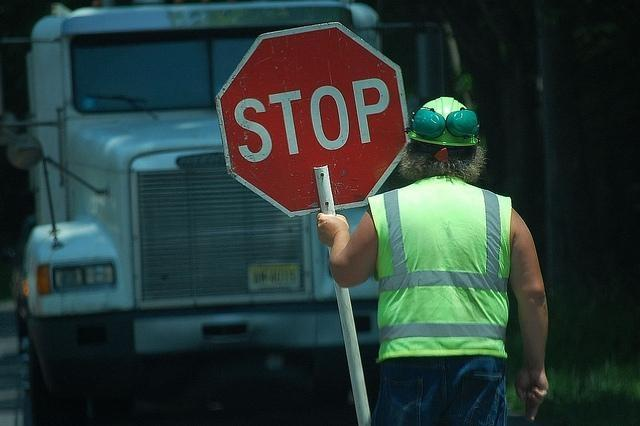truck: (22, 12, 372, 420)
